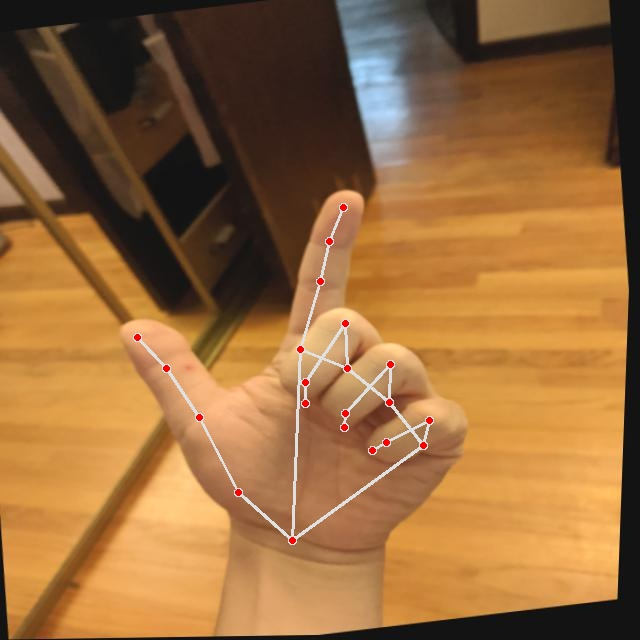L: (94, 170, 502, 577)
